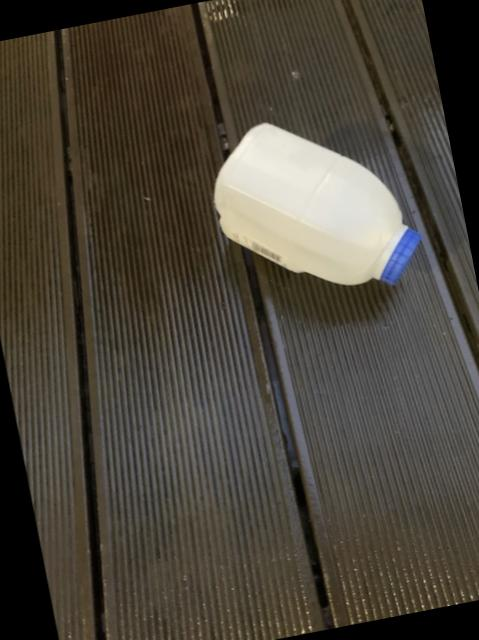plastic: (214, 121, 420, 283)
